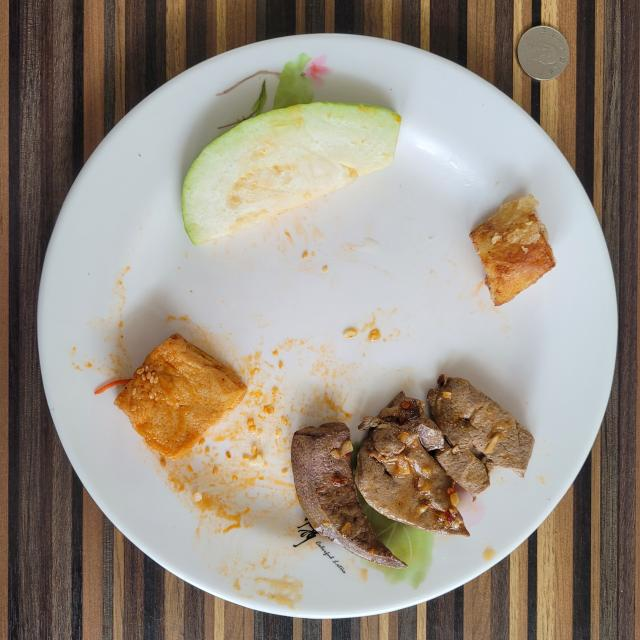coin: (518, 26, 570, 81)
creamy tofu: (114, 334, 248, 460)
fried potato: (470, 195, 555, 306)
guava -sliced-: (182, 102, 401, 244)
pig liver: (291, 375, 534, 568)
